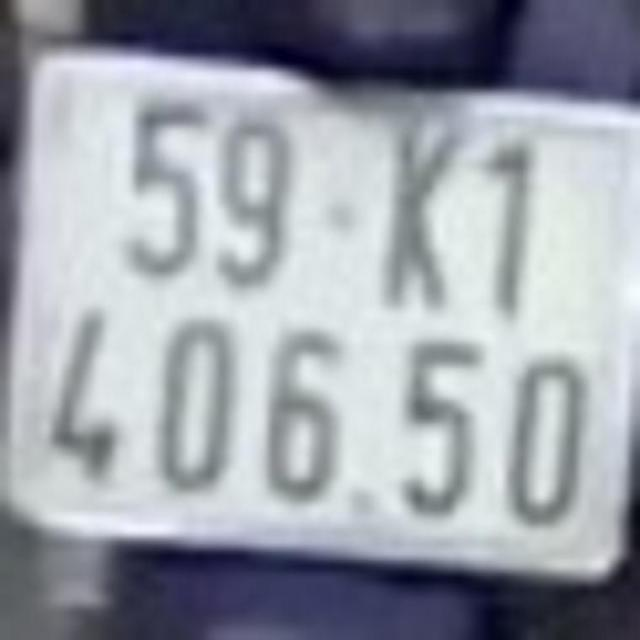0: (157, 314, 235, 498), (513, 352, 587, 532)
1: (476, 136, 538, 314)
4: (55, 307, 124, 487)
5: (401, 337, 485, 520), (125, 100, 199, 274)
6: (262, 324, 340, 500)
9: (214, 114, 286, 284)
K: (390, 125, 469, 318)
